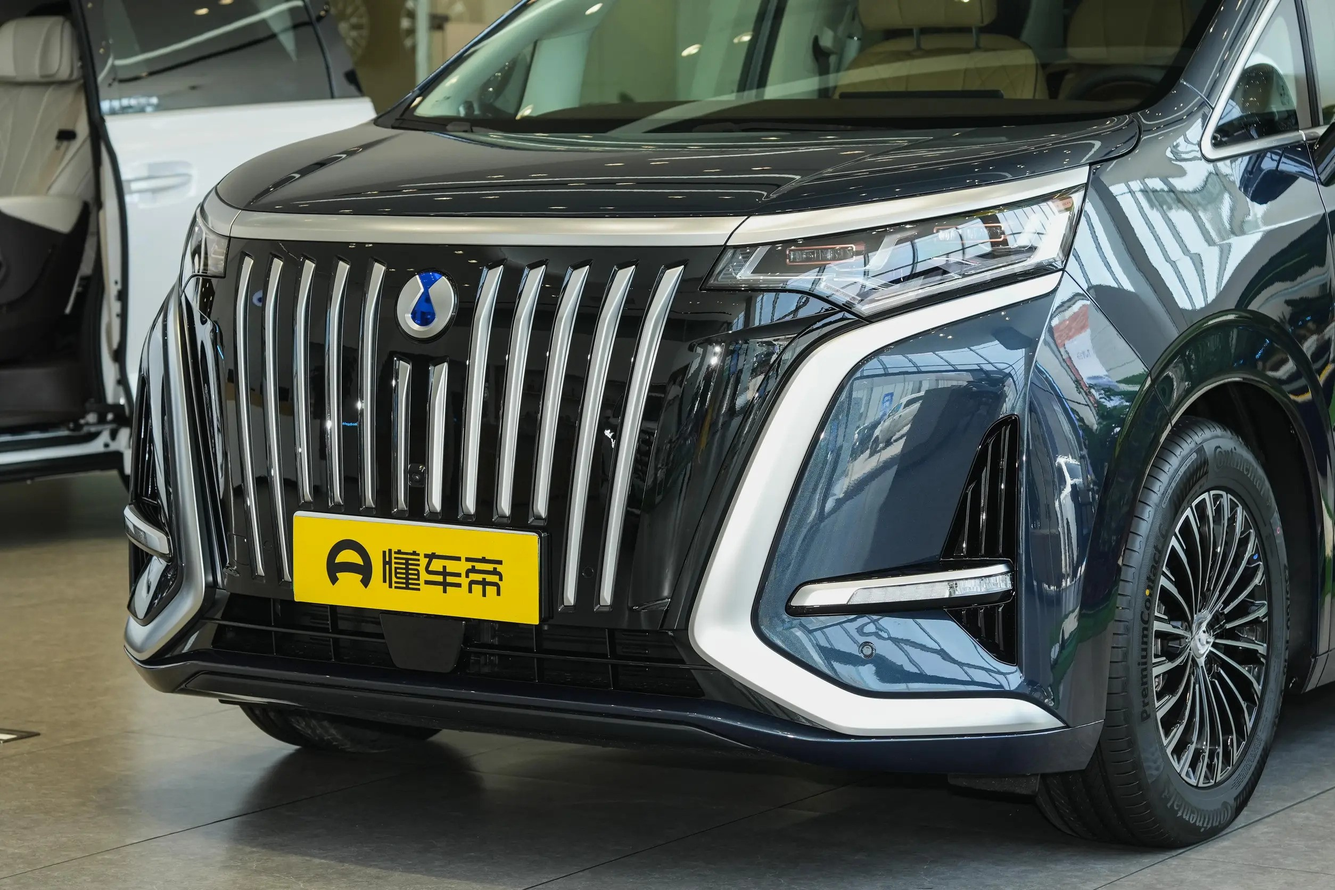DENZA: (397, 273, 453, 337)
